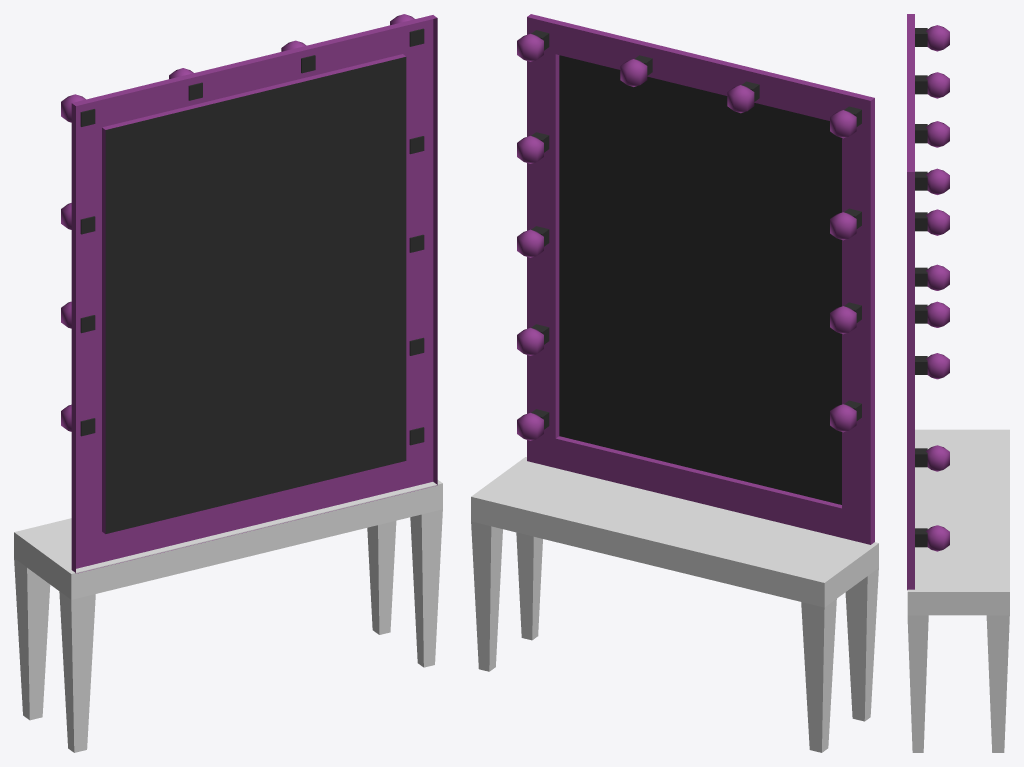
File: commode miroir ampoule.FBX
3 views of the same model, side by side, from view 1: azimuth 30°, elevation 25°; view 2: azimuth 150°, elevation 25°; view 3: azimuth 270°, elevation 25° (orthographic). The views are drawn at different scales.
Visible parts, largest first — view 1: mirroir001, commode001; view 2: mirroir001, commode001, socle ampoule012, socle ampoule013, socle ampoule017, socle ampoule014, socle ampoule015, socle ampoule018, socle ampoule016, socle ampoule021, socle ampoule023, socle ampoule019 (+1 smaller); view 3: commode001, mirroir001, socle ampoule013, socle ampoule016, socle ampoule015, socle ampoule012, socle ampoule022, socle ampoule014, socle ampoule018, socle ampoule021, socle ampoule017, socle ampoule019.
Part boxes in pixels (x1=…): mirroir001: x1=71, y1=15, x2=437, y2=573; commode001: x1=14, y1=480, x2=442, y2=752; mirroir001: x1=527, y1=14, x2=874, y2=544; commode001: x1=471, y1=457, x2=878, y2=752; socle ampoule012: x1=727, y1=81, x2=759, y2=113; socle ampoule013: x1=620, y1=55, x2=652, y2=86; socle ampoule017: x1=517, y1=226, x2=549, y2=257; socle ampoule014: x1=517, y1=30, x2=549, y2=61; socle ampoule015: x1=517, y1=409, x2=549, y2=440; socle ampoule018: x1=517, y1=132, x2=549, y2=163; socle ampoule016: x1=517, y1=324, x2=549, y2=355; socle ampoule021: x1=830, y1=400, x2=861, y2=432; socle ampoule023: x1=830, y1=208, x2=861, y2=240; socle ampoule019: x1=830, y1=106, x2=861, y2=138; commode001: x1=907, y1=429, x2=1009, y2=752; mirroir001: x1=907, y1=14, x2=914, y2=590; socle ampoule013: x1=915, y1=121, x2=949, y2=147; socle ampoule016: x1=915, y1=445, x2=949, y2=471; socle ampoule015: x1=915, y1=525, x2=949, y2=551; socle ampoule012: x1=915, y1=72, x2=949, y2=98; socle ampoule022: x1=915, y1=209, x2=949, y2=235; socle ampoule014: x1=915, y1=168, x2=949, y2=194; socle ampoule018: x1=915, y1=264, x2=949, y2=290; socle ampoule021: x1=915, y1=301, x2=949, y2=327; socle ampoule017: x1=915, y1=353, x2=949, y2=379; socle ampoule019: x1=915, y1=25, x2=949, y2=51.
Size of the model in its own units: 162 by 270 by 43.32.
